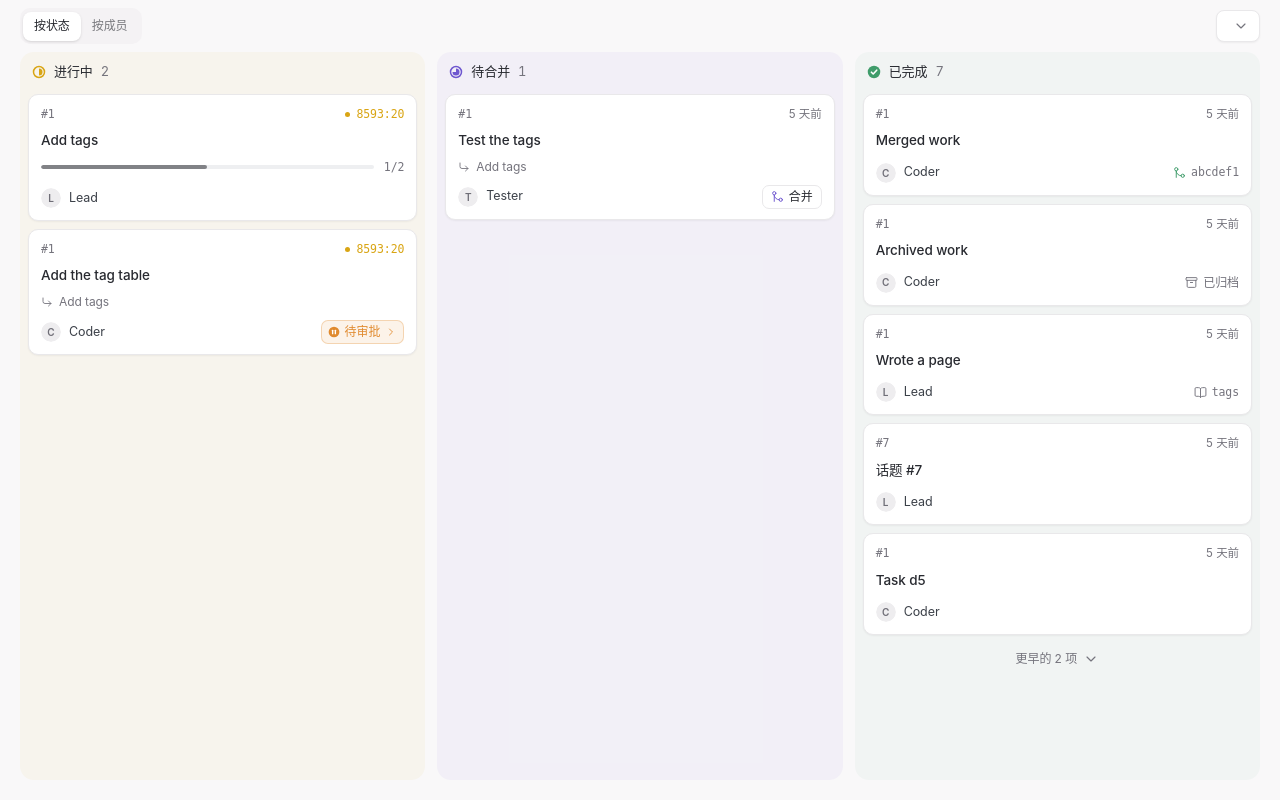
Test case: TasksView › groups by member and leaves out the members unticked
Expected: the element "进行中" is shown, [20, 52, 425, 780]
Click the tab "按成员" at (110, 26), box [81, 12, 139, 40]
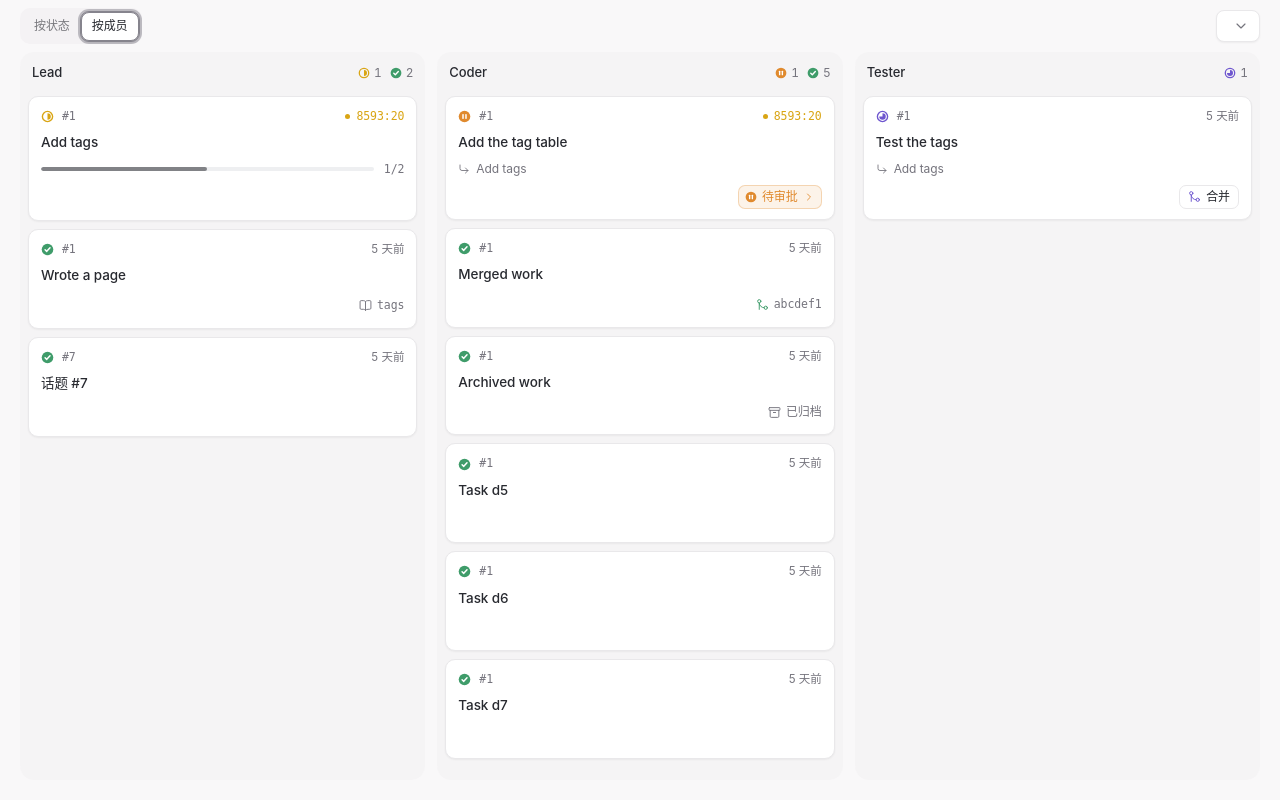
Expected: the link "Add the tag table" is shown, [458, 134, 567, 150]
Result: the element "Tester" is shown at [855, 52, 1260, 780]
Click the button named "按成员筛选" at (1238, 26), box [1216, 10, 1260, 42]
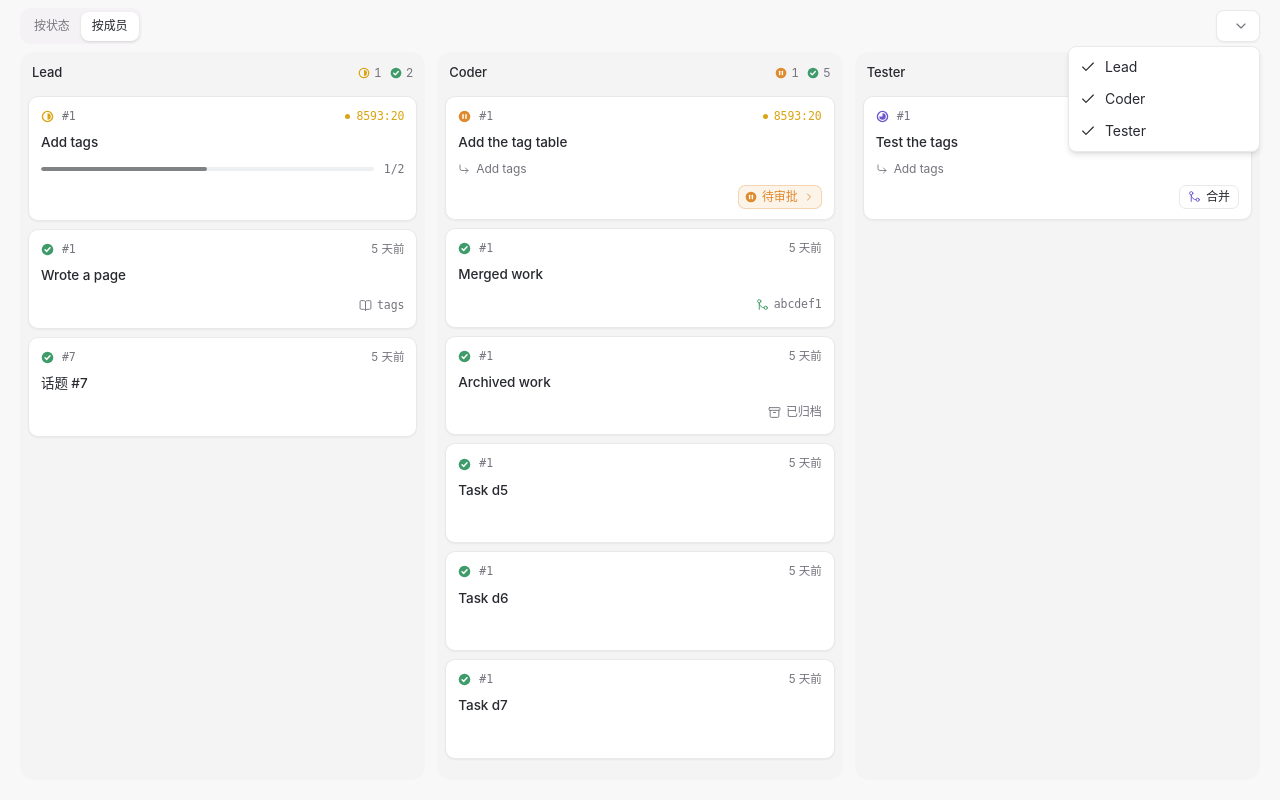
Click the menu item "Tester" at (1113, 130), box [1080, 122, 1146, 139]
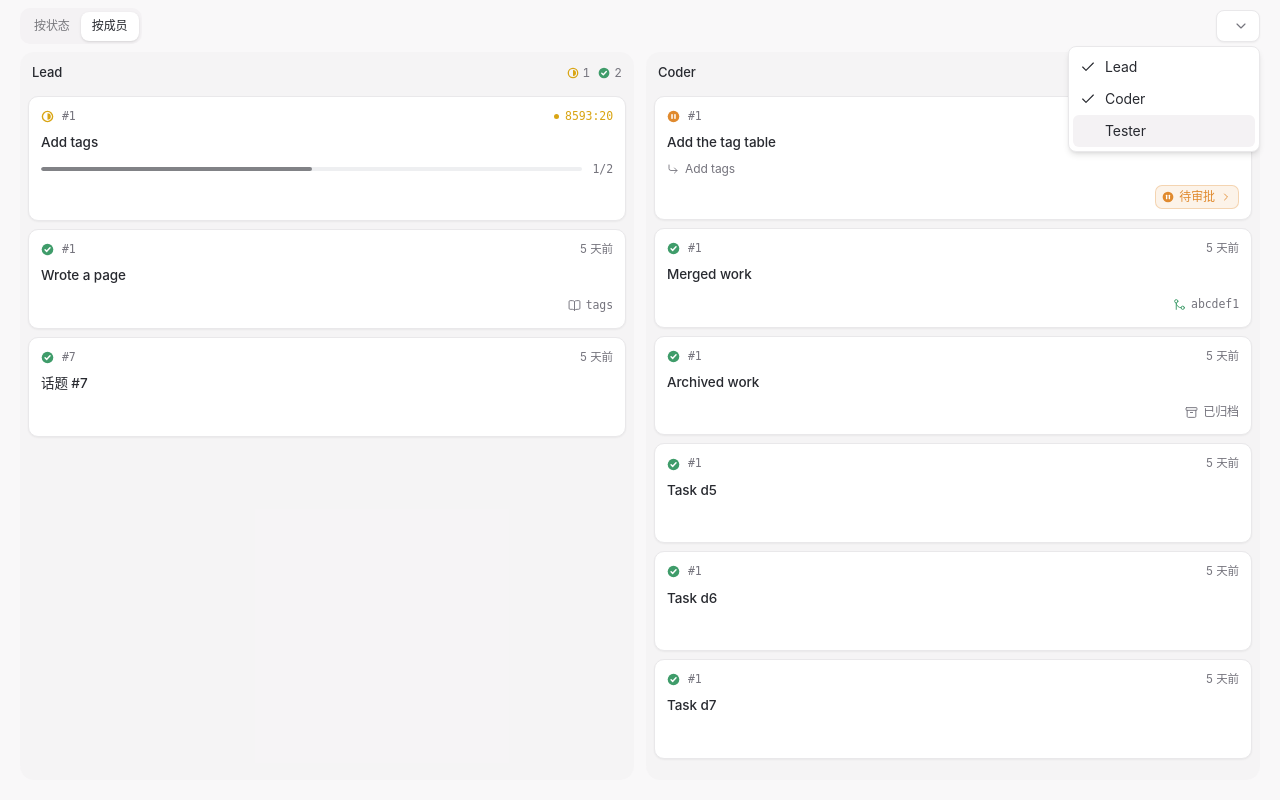
Press Escape
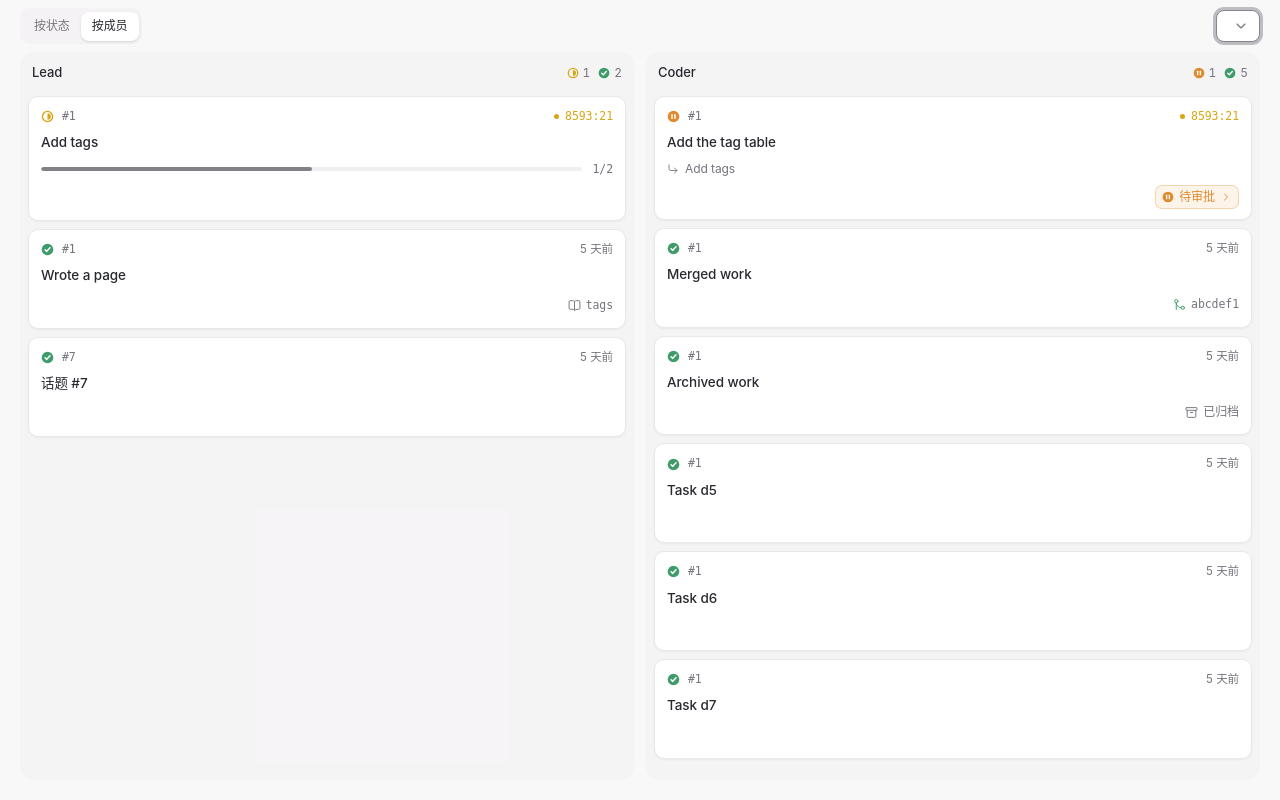
Result: the element "Coder" is shown at [646, 52, 1260, 780]
Result: the menu is gone
Result: the menu item "Tester" is gone
